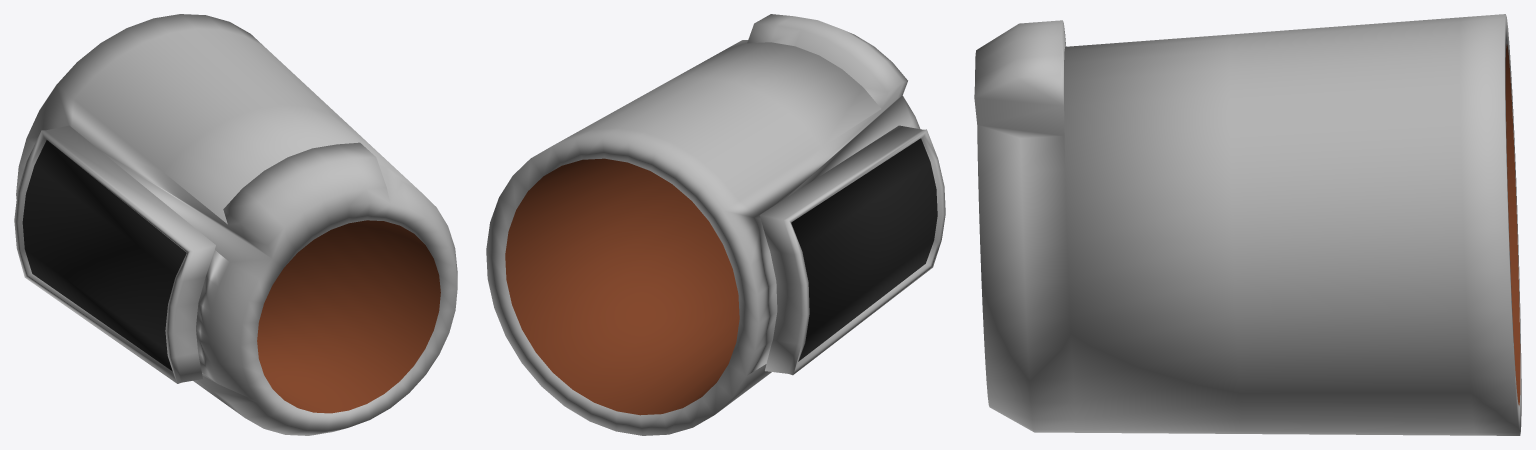
The model's file is pipboy.glb.
The picture shows the model from 3 angles, left to right: view 1: azimuth 30°, elevation 25°; view 2: azimuth 150°, elevation 25°; view 3: azimuth 270°, elevation 25°; orthographic projection. The views are drawn at different scales.
Parts seen in each view (by area): view 1: Cylinder; view 2: Cylinder; view 3: Cylinder.
Boxes of the visible parts, x1=… form: Cylinder: x1=14, y1=14, x2=457, y2=435; Cylinder: x1=486, y1=14, x2=945, y2=435; Cylinder: x1=974, y1=14, x2=1521, y2=435.
Size of the model in its own units: 2.19 by 2.01 by 2.6.
